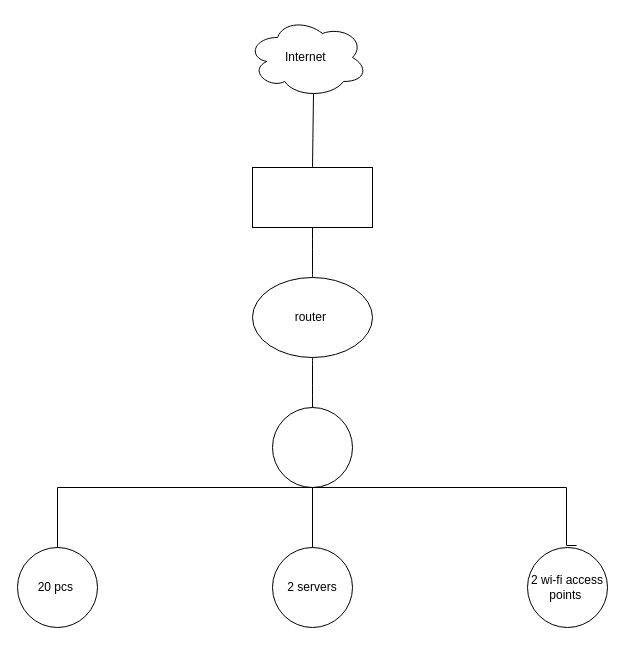
The diagram is 625 pixels wide and 645 high, and some of its shapes have lost their labels. Here are the shapes that lost their labels. From the top down, the box of each, then its label:
(252, 166, 372, 228): Firewall
(272, 406, 352, 488): switch
